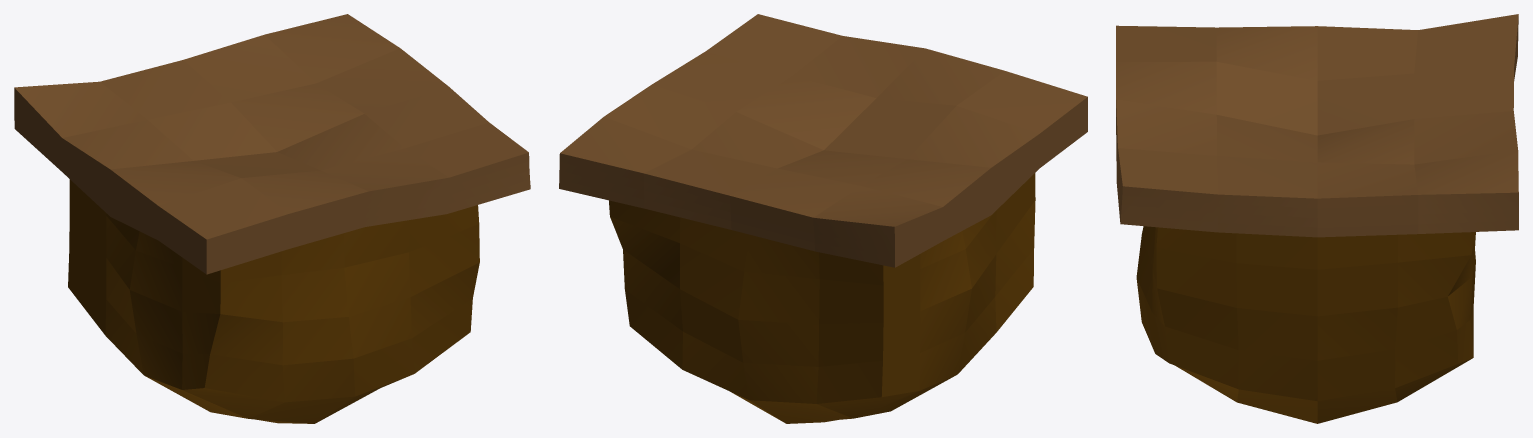
Rendered from brown_tile.glb.
3 views of the same model, side by side, from view 1: azimuth 30°, elevation 25°; view 2: azimuth 150°, elevation 25°; view 3: azimuth 270°, elevation 25° (orthographic). The views are drawn at different scales.
Parts seen in each view (by area): view 1: Plane; view 2: Plane; view 3: Plane.
Boxes of the visible parts, box(x1,y1,x2,y2) form: Plane: box(14, 14, 530, 423); Plane: box(559, 14, 1087, 423); Plane: box(1116, 14, 1518, 423).
Size of the model in its own units: 2.57 by 2.19 by 2.5.
